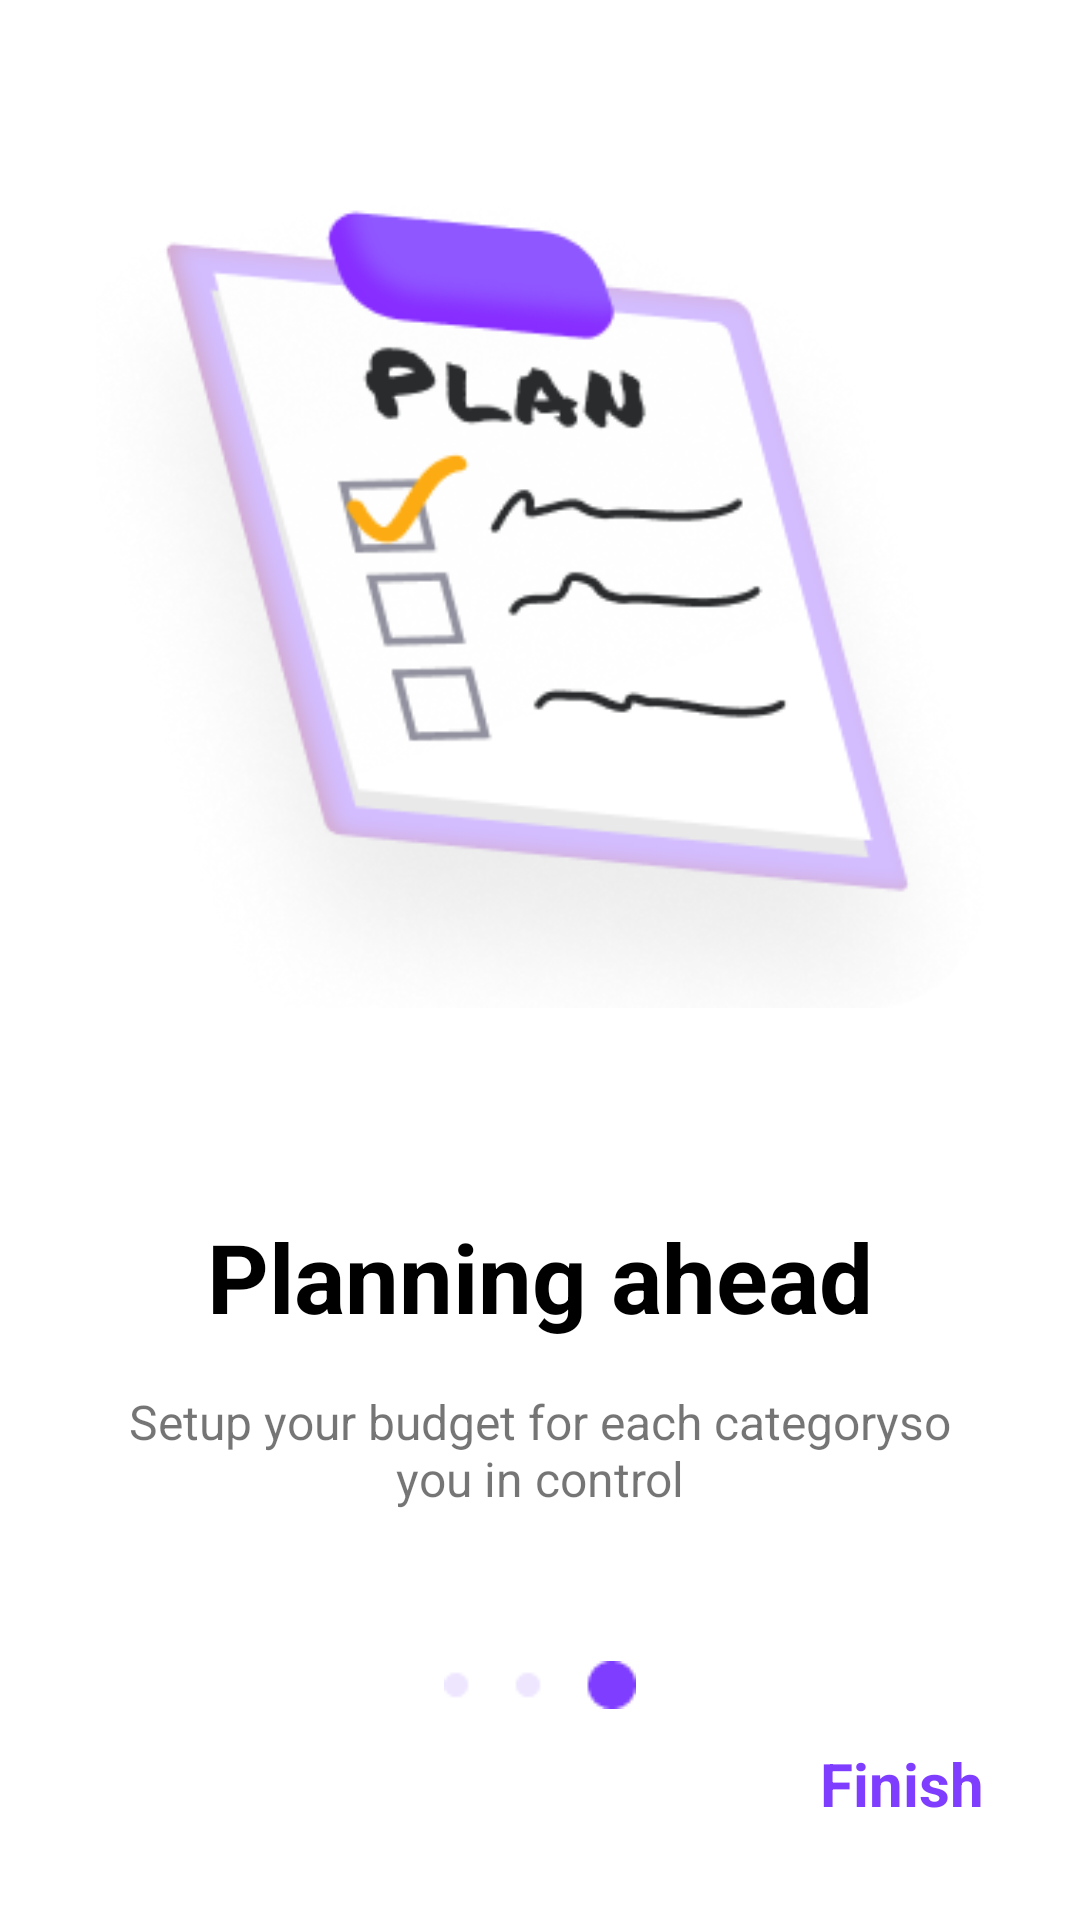

Named icons in this screenshot (1080w x 1920h) and their centers, (x=x, y=y):
third indicator: (x=540, y=1685)
